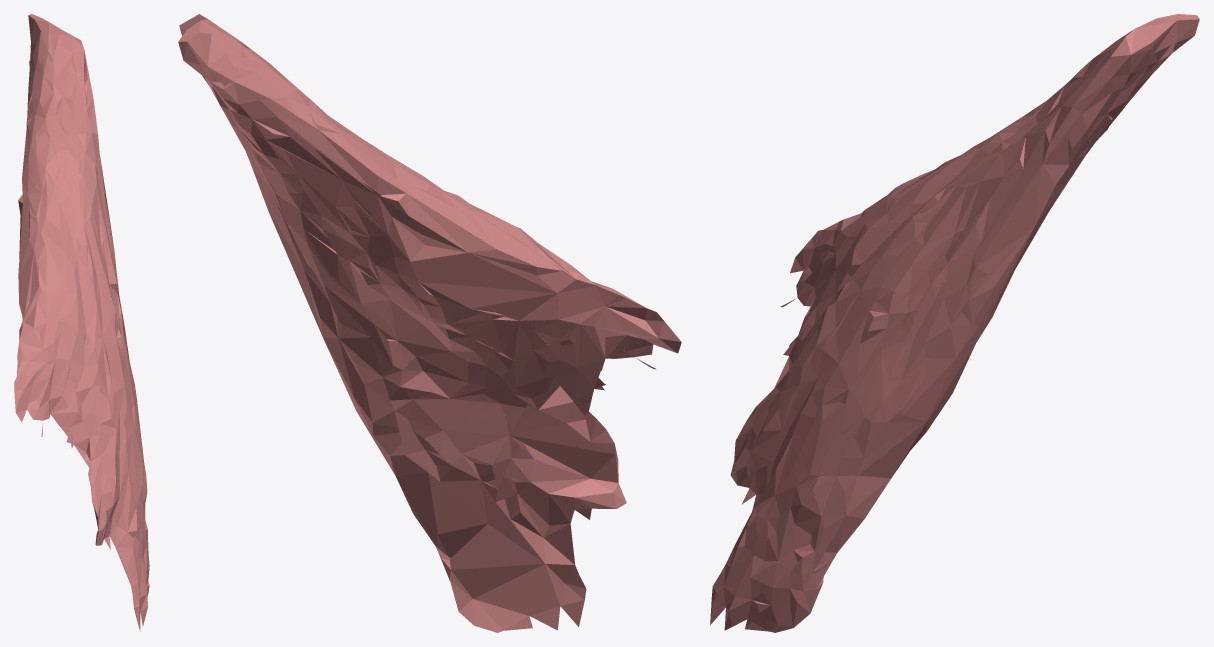
Rendered from Pectoralis_minor_muscle.l.glb.
3 views of the same model, side by side, from view 1: azimuth 30°, elevation 25°; view 2: azimuth 150°, elevation 25°; view 3: azimuth 270°, elevation 25° (orthographic). The views are drawn at different scales.
Parts seen in each view (by area): view 1: Pectoralis_minor_muscle.l; view 2: Pectoralis_minor_muscle.l; view 3: Pectoralis_minor_muscle.l.
Boxes of the visible parts, box(x1,y1,x2,y2) form: Pectoralis_minor_muscle.l: box(14, 14, 149, 631); Pectoralis_minor_muscle.l: box(178, 14, 681, 632); Pectoralis_minor_muscle.l: box(710, 14, 1199, 632).
Size of the model in its own units: 0.0562 by 0.1362 by 0.0923.
